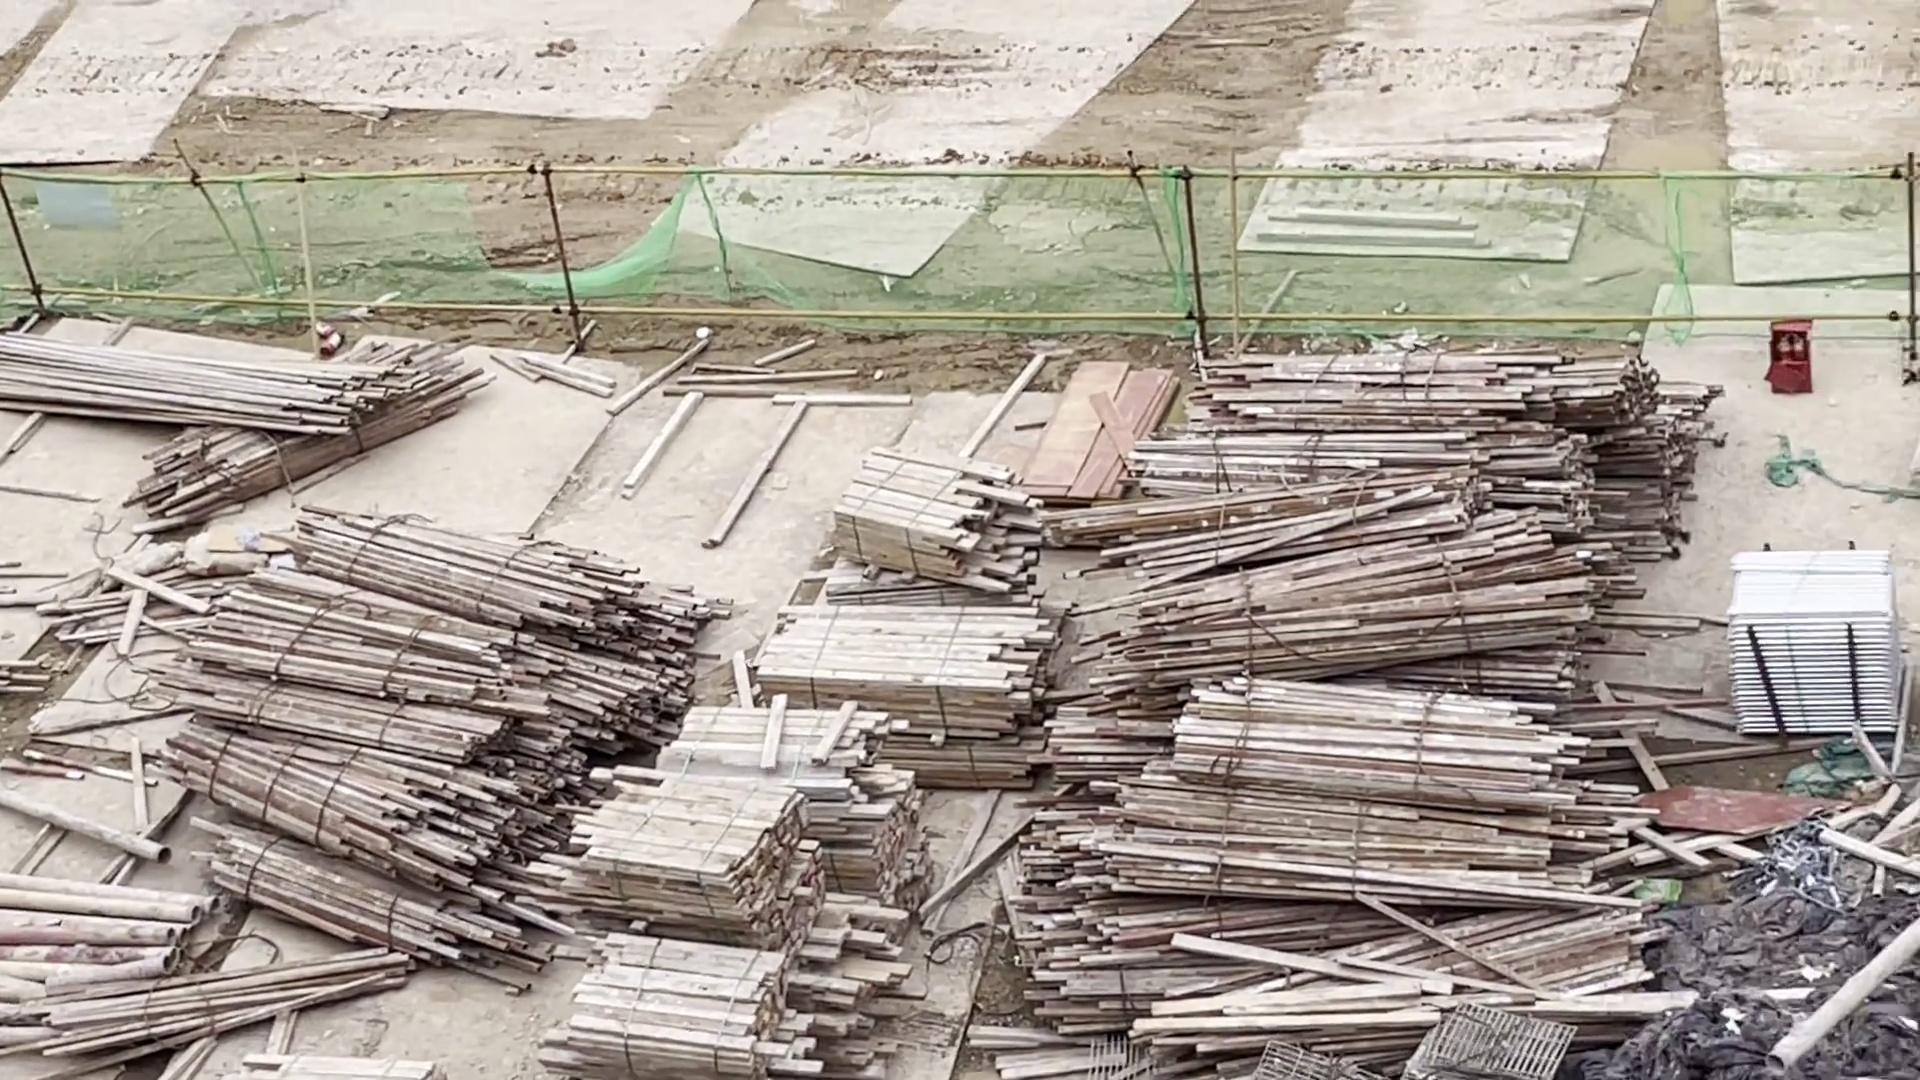board: (1027, 327, 1159, 506)
scaffold: (1729, 549, 1905, 740)
wood: (1029, 695, 1636, 1035), (235, 493, 727, 752), (568, 764, 934, 1067), (199, 737, 570, 988), (1160, 342, 1718, 498), (742, 559, 1069, 819), (1141, 497, 1593, 684), (1, 332, 479, 487), (833, 456, 1025, 609)
